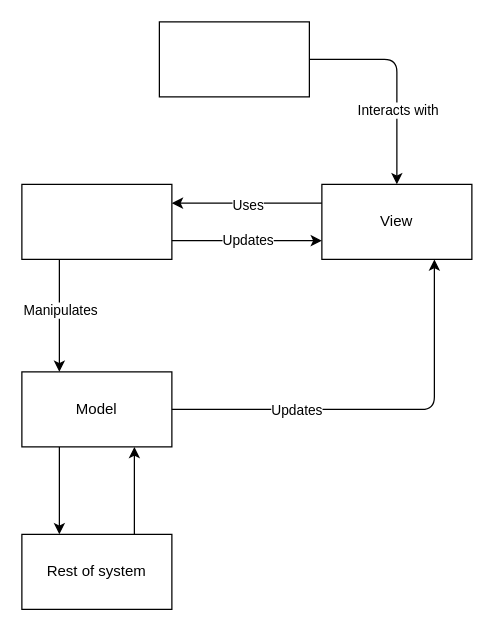
Image size: 494x631. Some labels were removed from this diagram. Here are the shapes that lost their labels. From the top down, the box of each, then its label:
(158, 21, 309, 97): Client
(21, 183, 172, 259): Controller
